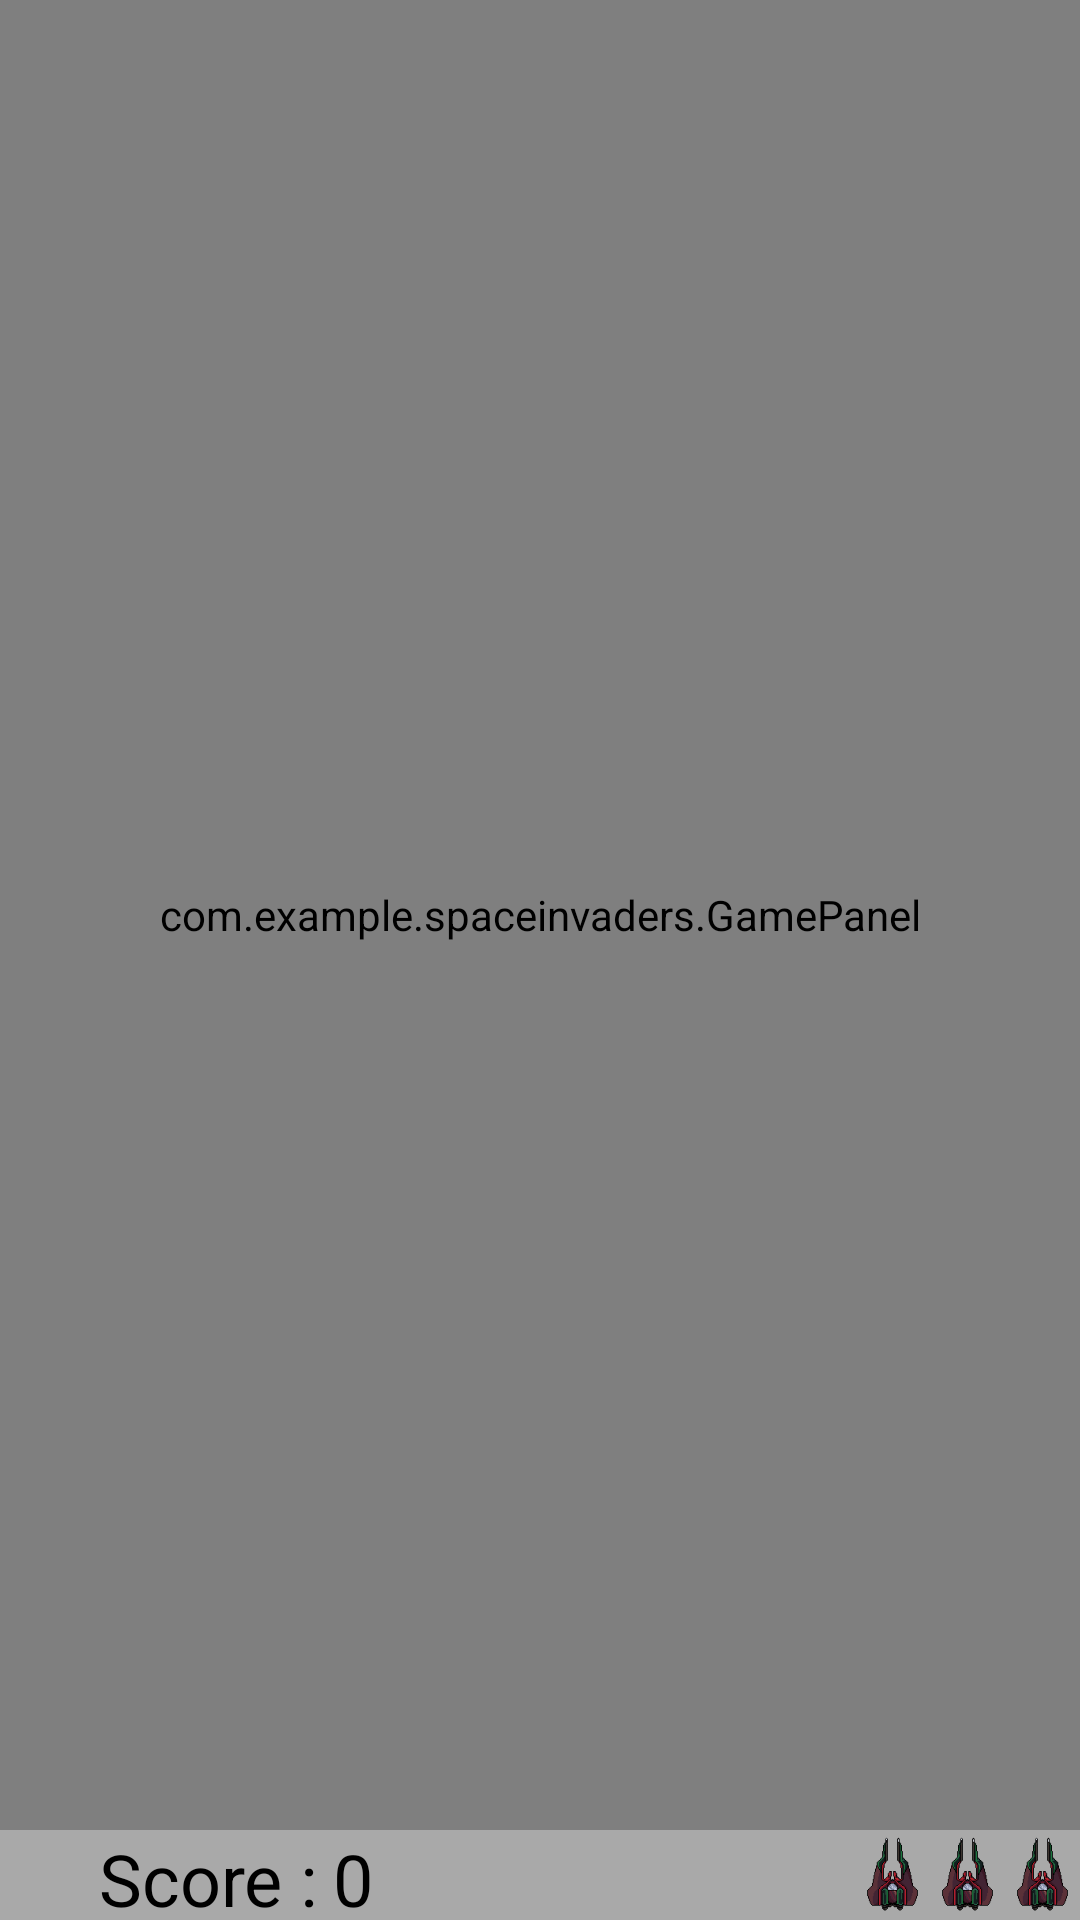

Screen size 1080x1920. Icon name, then its box in pixels as {"x1": x1, "y1": y1, "x2": x2, "y2": y2}:
playerfighteridle: {"x1": 867, "y1": 1838, "x2": 918, "y2": 1911}, {"x1": 942, "y1": 1838, "x2": 993, "y2": 1911}, {"x1": 1017, "y1": 1838, "x2": 1068, "y2": 1911}
